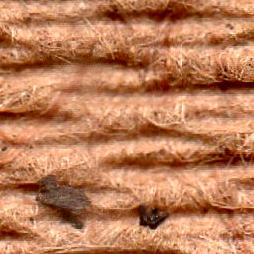egg: (140, 206, 167, 228)
